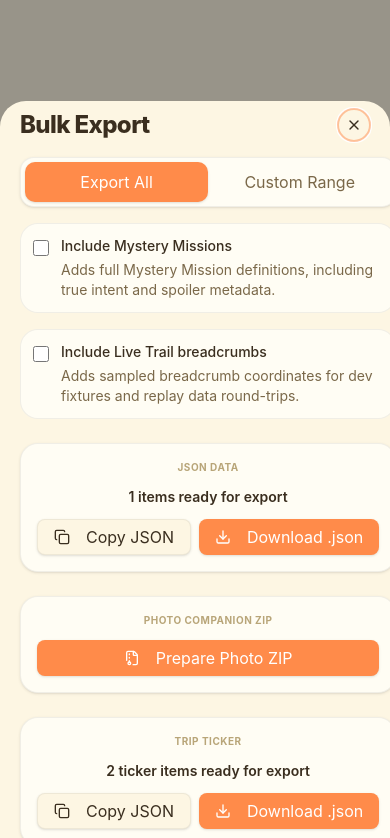
BulkExportSheet › blocks the one-shot export and offers recent-N when over the cap
What coordinates should you click on to do the following:
click the checkbox labelled "Include Live Trail breadcrumbs"
I would click on:
 (41, 354)
Its box is [33,346,49,362].
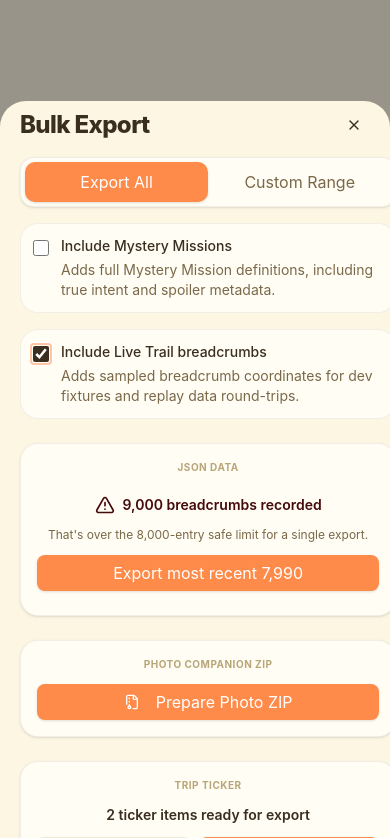
expect the text "9,000 breadcrumbs recorded" is shown: met, box [122,495,322,515]
expect the text "That's over the 8,000-entry safe limit for a single export." is shown: met, box [37,527,379,543]
expect the button "Export most recent 7,990" is shown: met, box [37,555,379,591]
